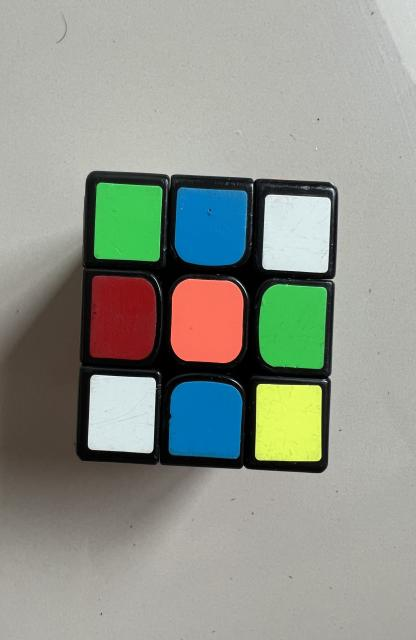Blue: (174, 188, 248, 266), (169, 381, 243, 459)
Green: (259, 284, 327, 369), (94, 182, 162, 261)
Orange: (170, 279, 244, 364)
Red: (90, 275, 157, 360)
White: (88, 375, 156, 454), (262, 195, 330, 272)
Yellow: (255, 384, 322, 461)
